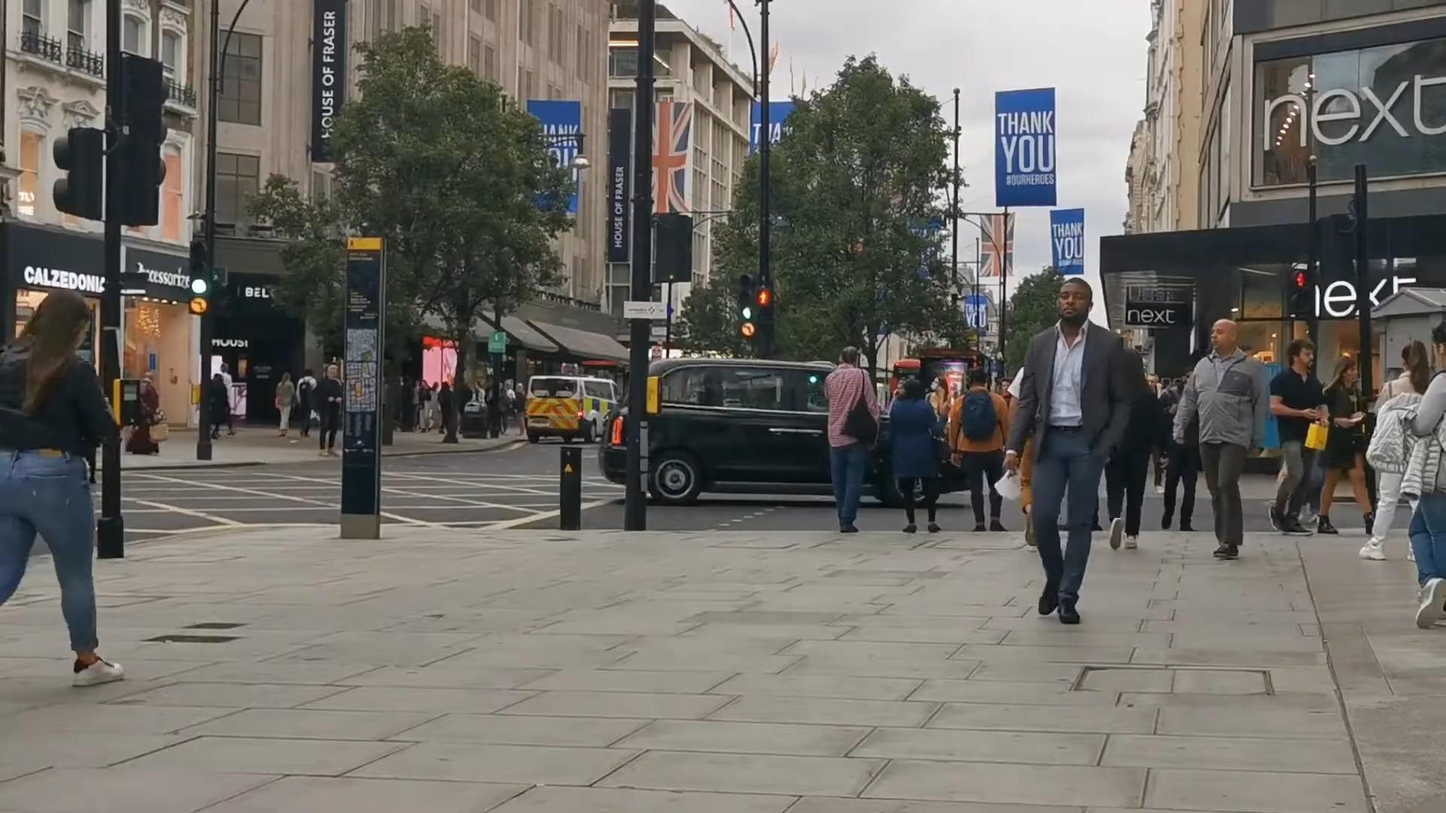no-helmet: (20, 289, 89, 356), (1056, 276, 1093, 322), (1210, 318, 1239, 352), (1401, 340, 1429, 371), (1288, 337, 1315, 369), (1431, 320, 1446, 370), (1334, 355, 1357, 384), (898, 378, 925, 401), (968, 366, 987, 387), (841, 346, 857, 367), (931, 375, 948, 392)
